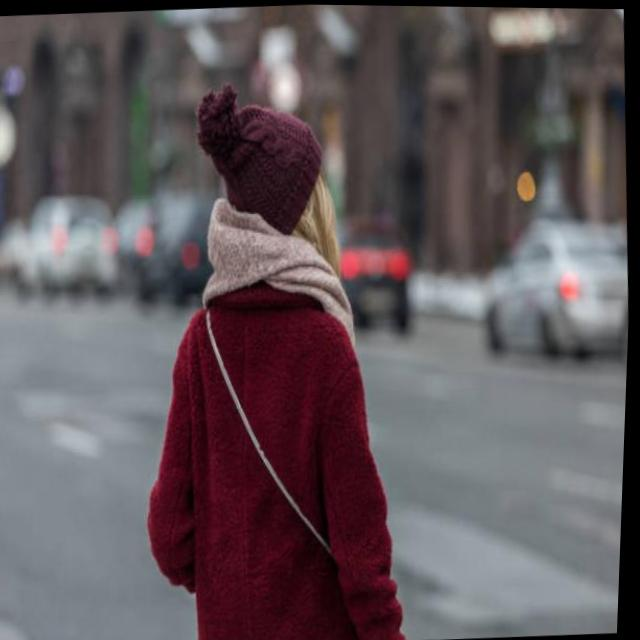no helmet: (195, 82, 369, 321)
